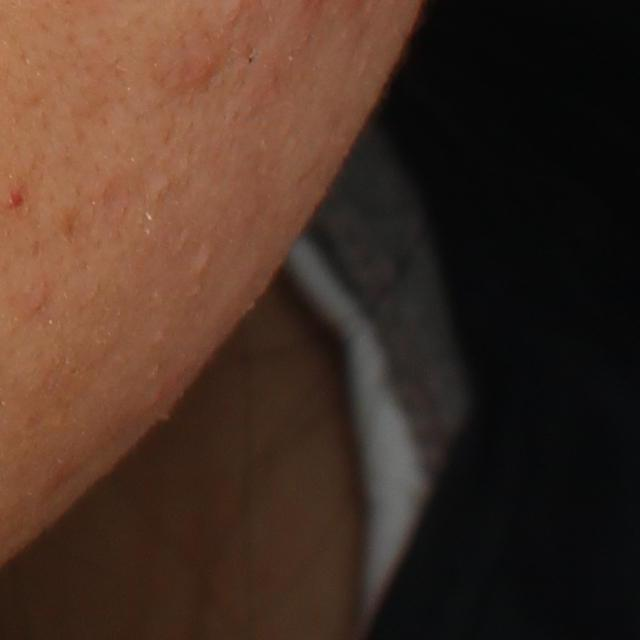comedo: (189, 249, 212, 279), (151, 179, 176, 197)
papule: (169, 49, 224, 99), (2, 185, 30, 212)
